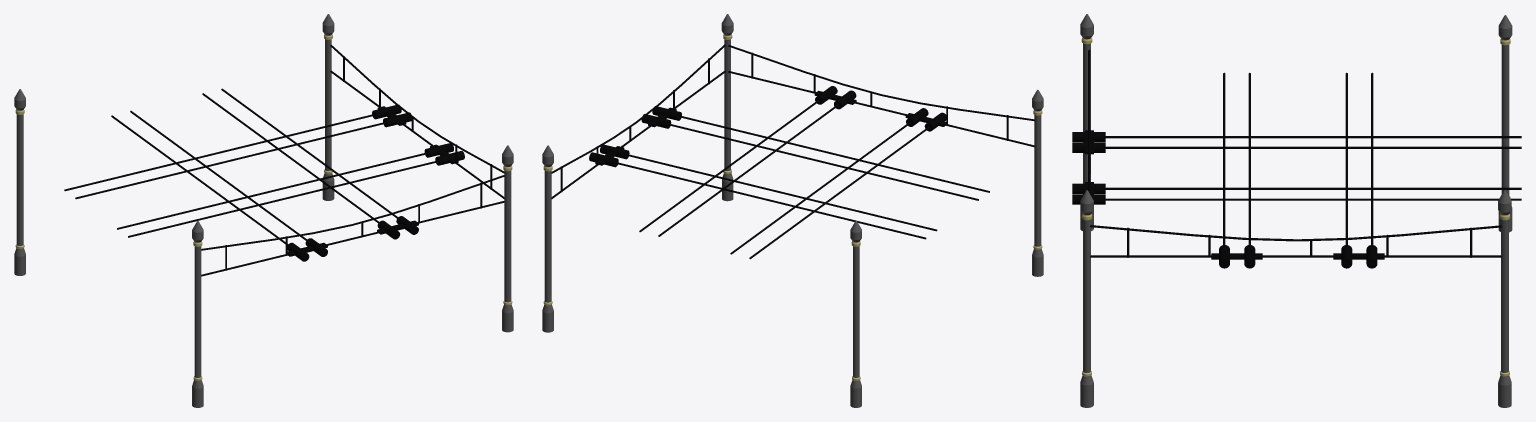
Rendered from trolley-wires.dae.
3 renders of one model, left to right at view 1: azimuth 30°, elevation 25°; view 2: azimuth 150°, elevation 25°; view 3: azimuth 270°, elevation 25°, orthographic. The views are drawn at different scales.
Parts seen in each view (by area): view 1: Cylinder_033, Cylinder_031, Cylinder_032, Cylinder_034, Cylinder_024, Cylinder_023, Cylinder_026, Cylinder_027, Cylinder_006, Cylinder_005, Cylinder_019, Cylinder_020 (+3 smaller); view 2: Cylinder_031, Cylinder_034, Cylinder_032, Cylinder_033, Cylinder_026, Cylinder_024, Cylinder_027, Cylinder_023, Cylinder_006, Cylinder_005, Cylinder_021, Cylinder_019 (+3 smaller); view 3: Cylinder_033, Cylinder_034, Cylinder_032, Cylinder_020, Cylinder_022, Cylinder_021, Cylinder_019, Cylinder_037, Cylinder_031, Cylinder_038, Cylinder_027, Cylinder_024 (+3 smaller).
Boxes of the visible parts, <box> form: Cylinder_033: <box>502,145,513,332</box>; Cylinder_031: <box>192,221,203,407</box>; Cylinder_032: <box>14,89,25,275</box>; Cylinder_034: <box>322,14,334,200</box>; Cylinder_024: <box>128,160,438,237</box>; Cylinder_023: <box>117,152,427,229</box>; Cylinder_026: <box>75,122,385,199</box>; Cylinder_027: <box>64,114,374,191</box>; Cylinder_006: <box>201,175,504,250</box>; Cylinder_005: <box>201,201,504,276</box>; Cylinder_019: <box>221,88,397,218</box>; Cylinder_020: <box>202,93,378,223</box>; Cylinder_031: <box>1032,89,1043,276</box>; Cylinder_034: <box>542,145,553,332</box>; Cylinder_032: <box>850,221,861,407</box>; Cylinder_033: <box>721,14,733,201</box>; Cylinder_026: <box>626,154,937,231</box>; Cylinder_024: <box>679,115,989,192</box>; Cylinder_027: <box>615,162,926,239</box>; Cylinder_023: <box>668,123,978,200</box>; Cylinder_006: <box>728,45,1034,121</box>; Cylinder_005: <box>728,71,1034,147</box>; Cylinder_021: <box>749,126,929,259</box>; Cylinder_019: <box>639,99,819,232</box>; Cylinder_033: <box>1080,190,1093,407</box>; Cylinder_034: <box>1498,190,1511,407</box>; Cylinder_032: <box>1498,15,1512,232</box>; Cylinder_020: <box>1105,187,1521,189</box>; Cylinder_022: <box>1105,146,1521,148</box>; Cylinder_021: <box>1105,136,1521,138</box>; Cylinder_019: <box>1105,198,1521,200</box>; Cylinder_037: <box>1090,225,1501,241</box>; Cylinder_031: <box>1080,14,1093,230</box>; Cylinder_038: <box>1090,255,1501,257</box>; Cylinder_027: <box>1371,72,1373,244</box>; Cylinder_024: <box>1223,72,1225,244</box>.
Bounding box in the file's own units: 8.59 × 8.59 × 4.52.
